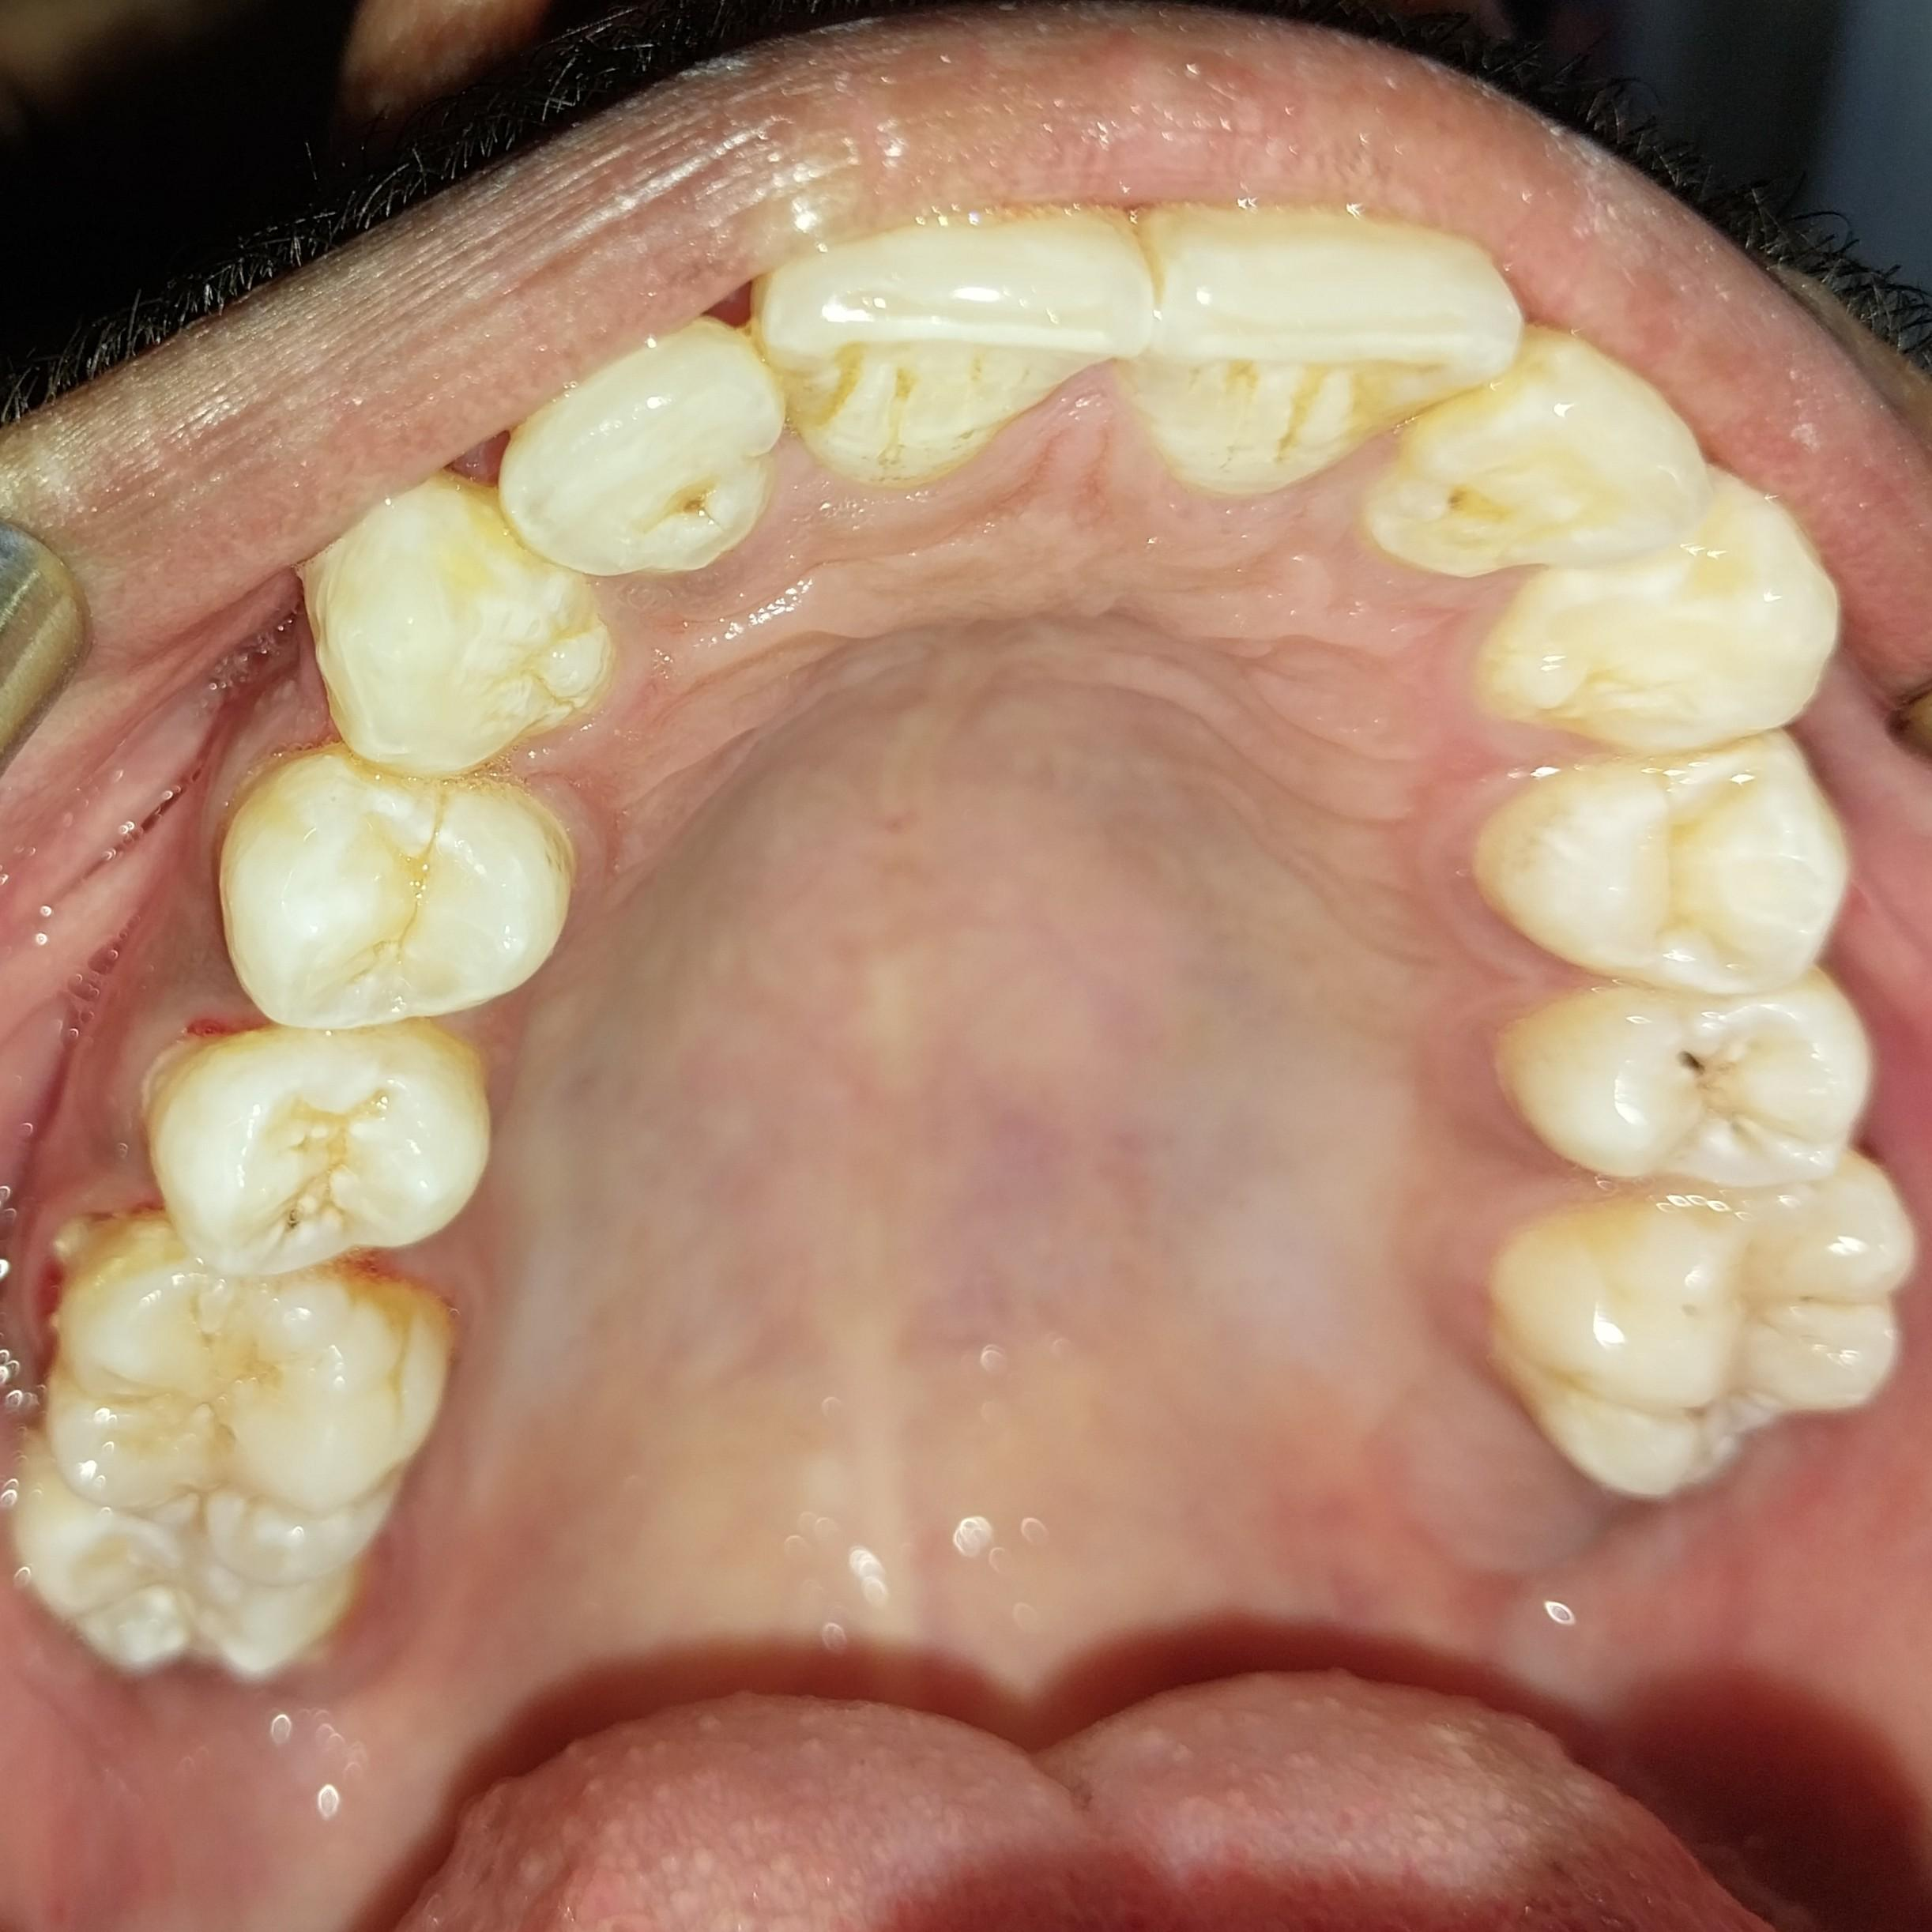D: (145, 1031, 487, 1275), (1504, 968, 1868, 1189)
